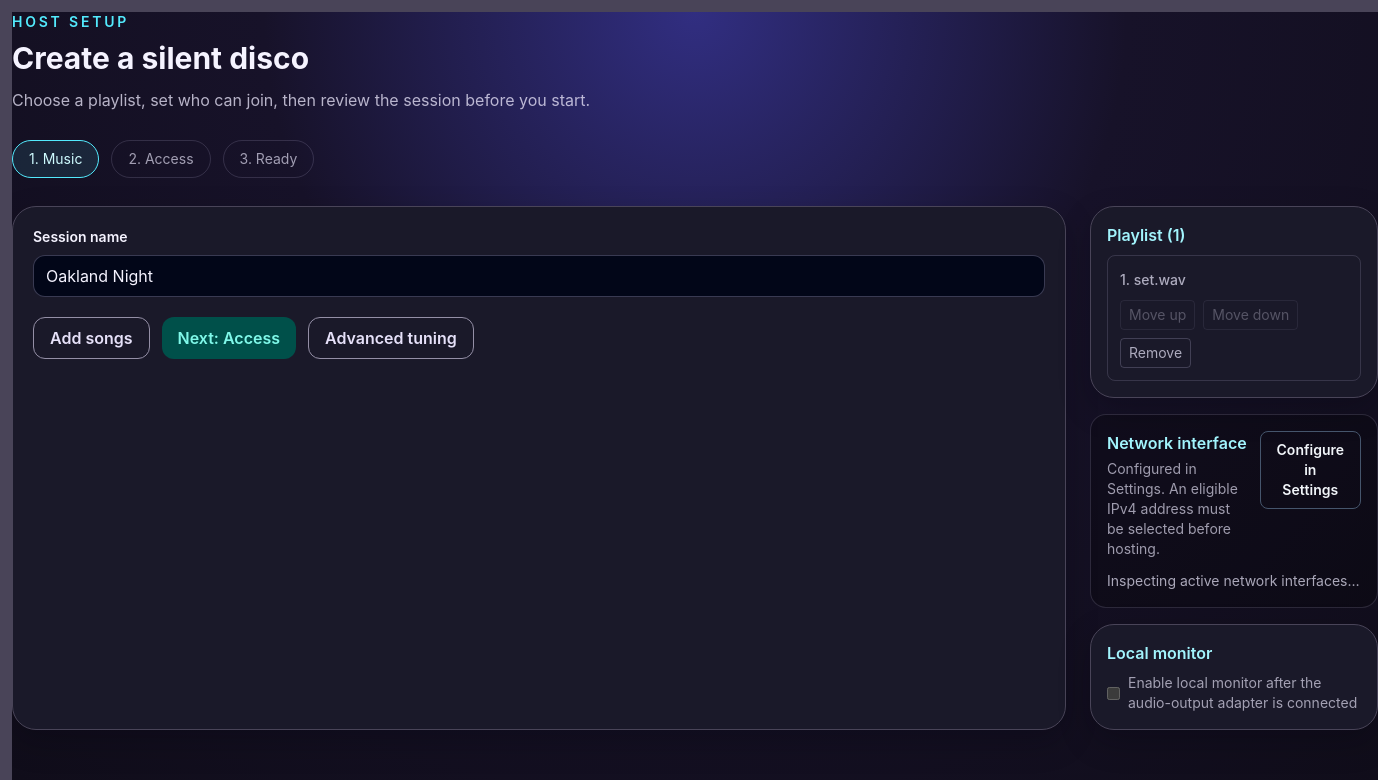
Scenario: HostSetupScreen › presents Music, Access, and Ready as ordered wizard stages
Expected: the field labelled "Session name" is shown, [33, 255, 1045, 297]
Expected: the field labelled "Listener approval" is not shown
Click the button "Next: Access": (229, 338) [162, 317, 296, 359]
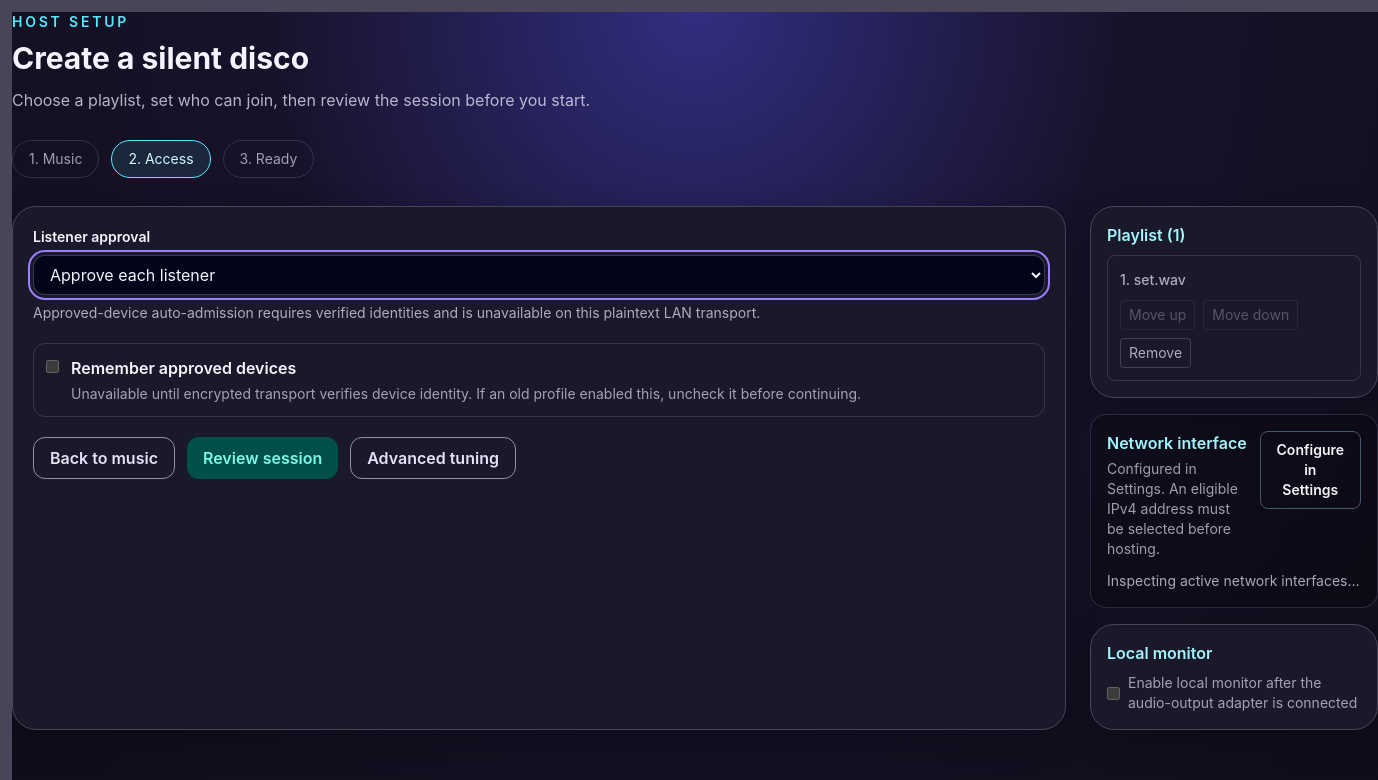
Click the button "Review session": (263, 458) [187, 437, 338, 479]
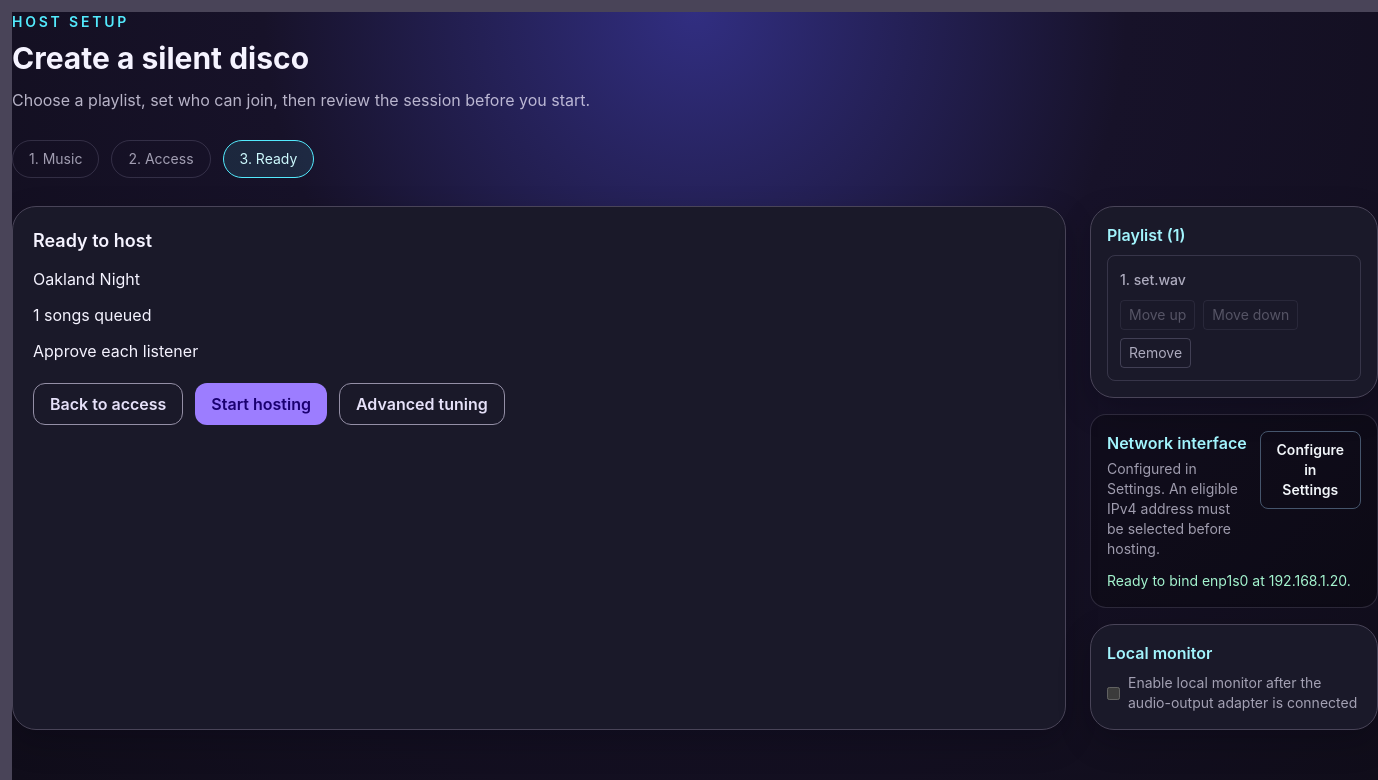
Expected: the heading "Ready to host" is shown, [33, 230, 152, 251]
Expected: the button "Start hosting" is shown, [195, 383, 327, 425]
